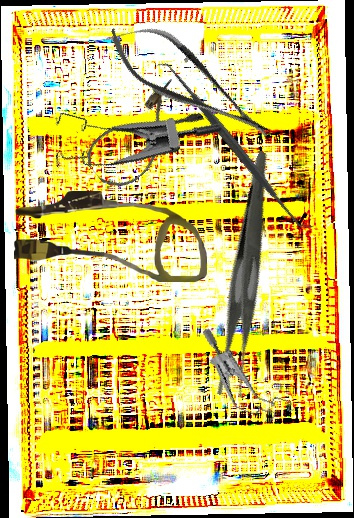Cannula: (14, 191, 207, 282), (78, 77, 207, 198)
Dressing Forceps: (156, 150, 341, 404)
Micro Scissor: (95, 4, 284, 161)
Spatula Surgical: (155, 51, 315, 241)
Speculum: (38, 57, 224, 198), (180, 327, 312, 430)
